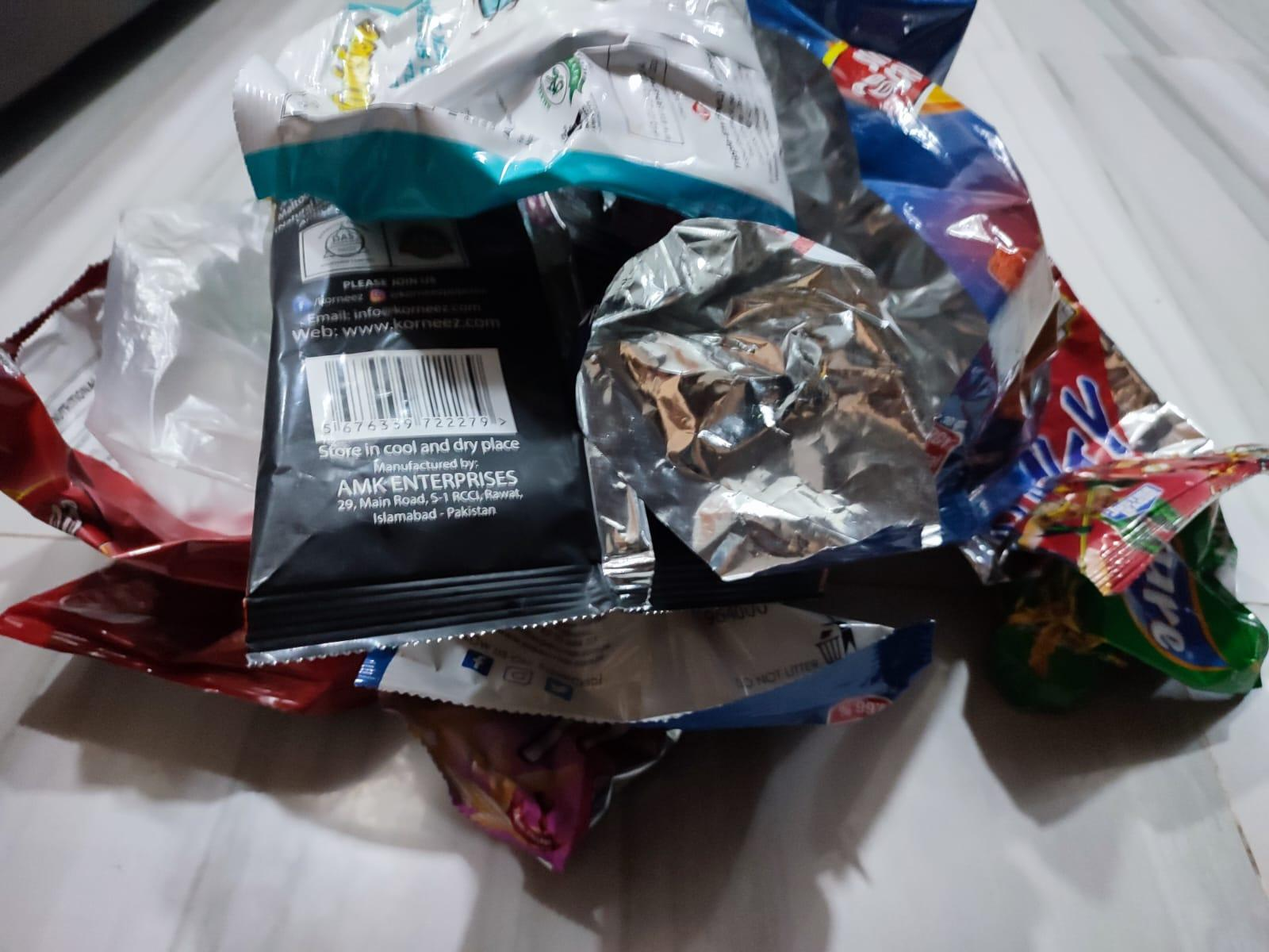garbage: (13, 0, 1269, 919)
